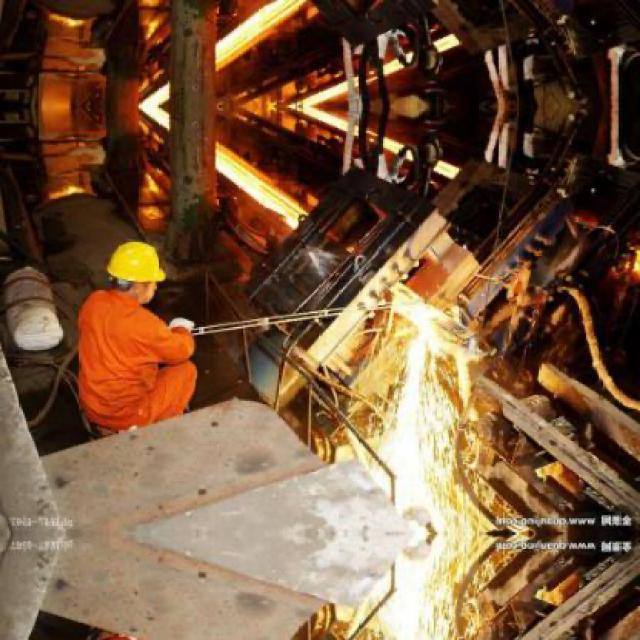helmet: (105, 236, 166, 305)
